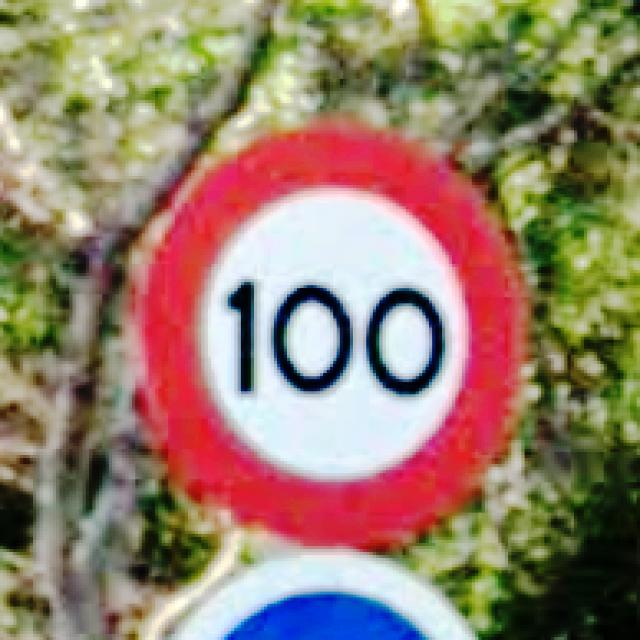max100: (122, 112, 531, 549)
